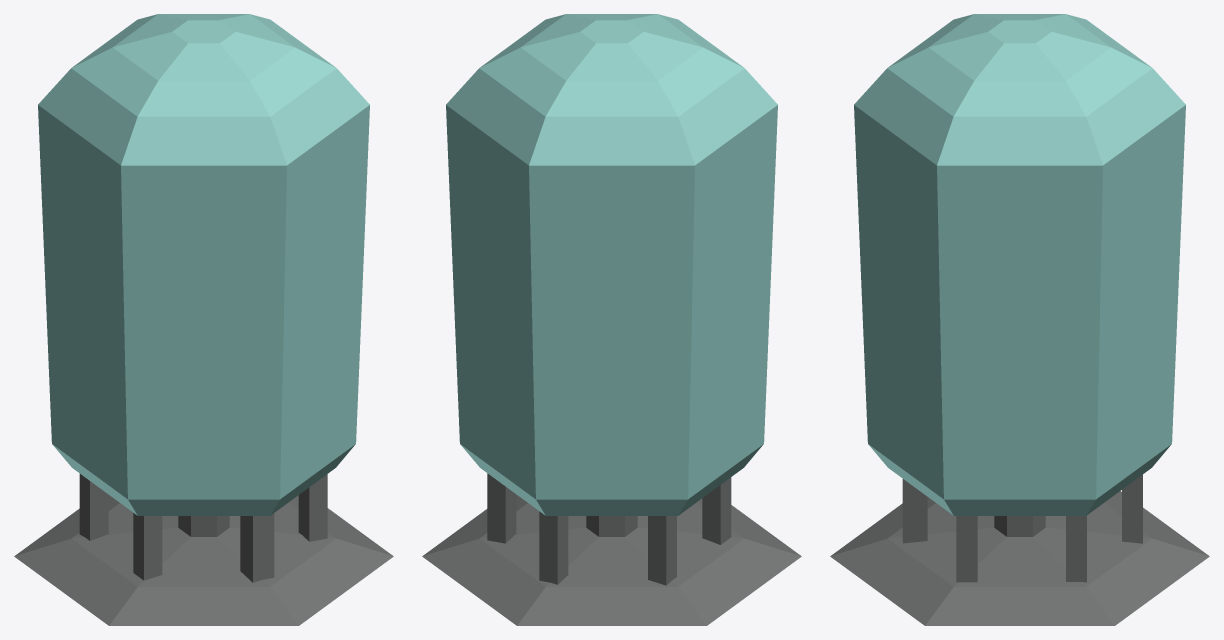
File: oxygen_tank.glb
3 views of the same model, side by side, from view 1: azimuth 30°, elevation 25°; view 2: azimuth 150°, elevation 25°; view 3: azimuth 270°, elevation 25° (orthographic).
Visible parts, largest first — view 1: Circle.002, Cube.012, Cube.017, Cube.013, Cube.016; view 2: Circle.002, Cube.015, Cube.016, Cube.014, Cube.017; view 3: Circle.002, Cube.013, Cube.012, Cube.014, Cube.015.
Part boxes in pixels (x1,y1,x2,y2): Circle.002: (14, 14, 393, 625); Cube.012: (240, 513, 274, 582); Cube.017: (133, 513, 162, 580); Cube.013: (298, 474, 327, 541); Cube.016: (79, 474, 108, 540); Circle.002: (422, 14, 801, 625); Cube.015: (539, 511, 568, 584); Cube.016: (648, 516, 676, 585); Cube.014: (487, 473, 516, 543); Cube.017: (702, 477, 731, 544); Circle.002: (830, 14, 1209, 625); Cube.013: (956, 516, 977, 582); Cube.012: (902, 479, 927, 543); Cube.014: (1066, 515, 1086, 582); Cube.015: (1122, 474, 1142, 543).
Size of the model in its own units: 0.866 by 1.52 by 1.
